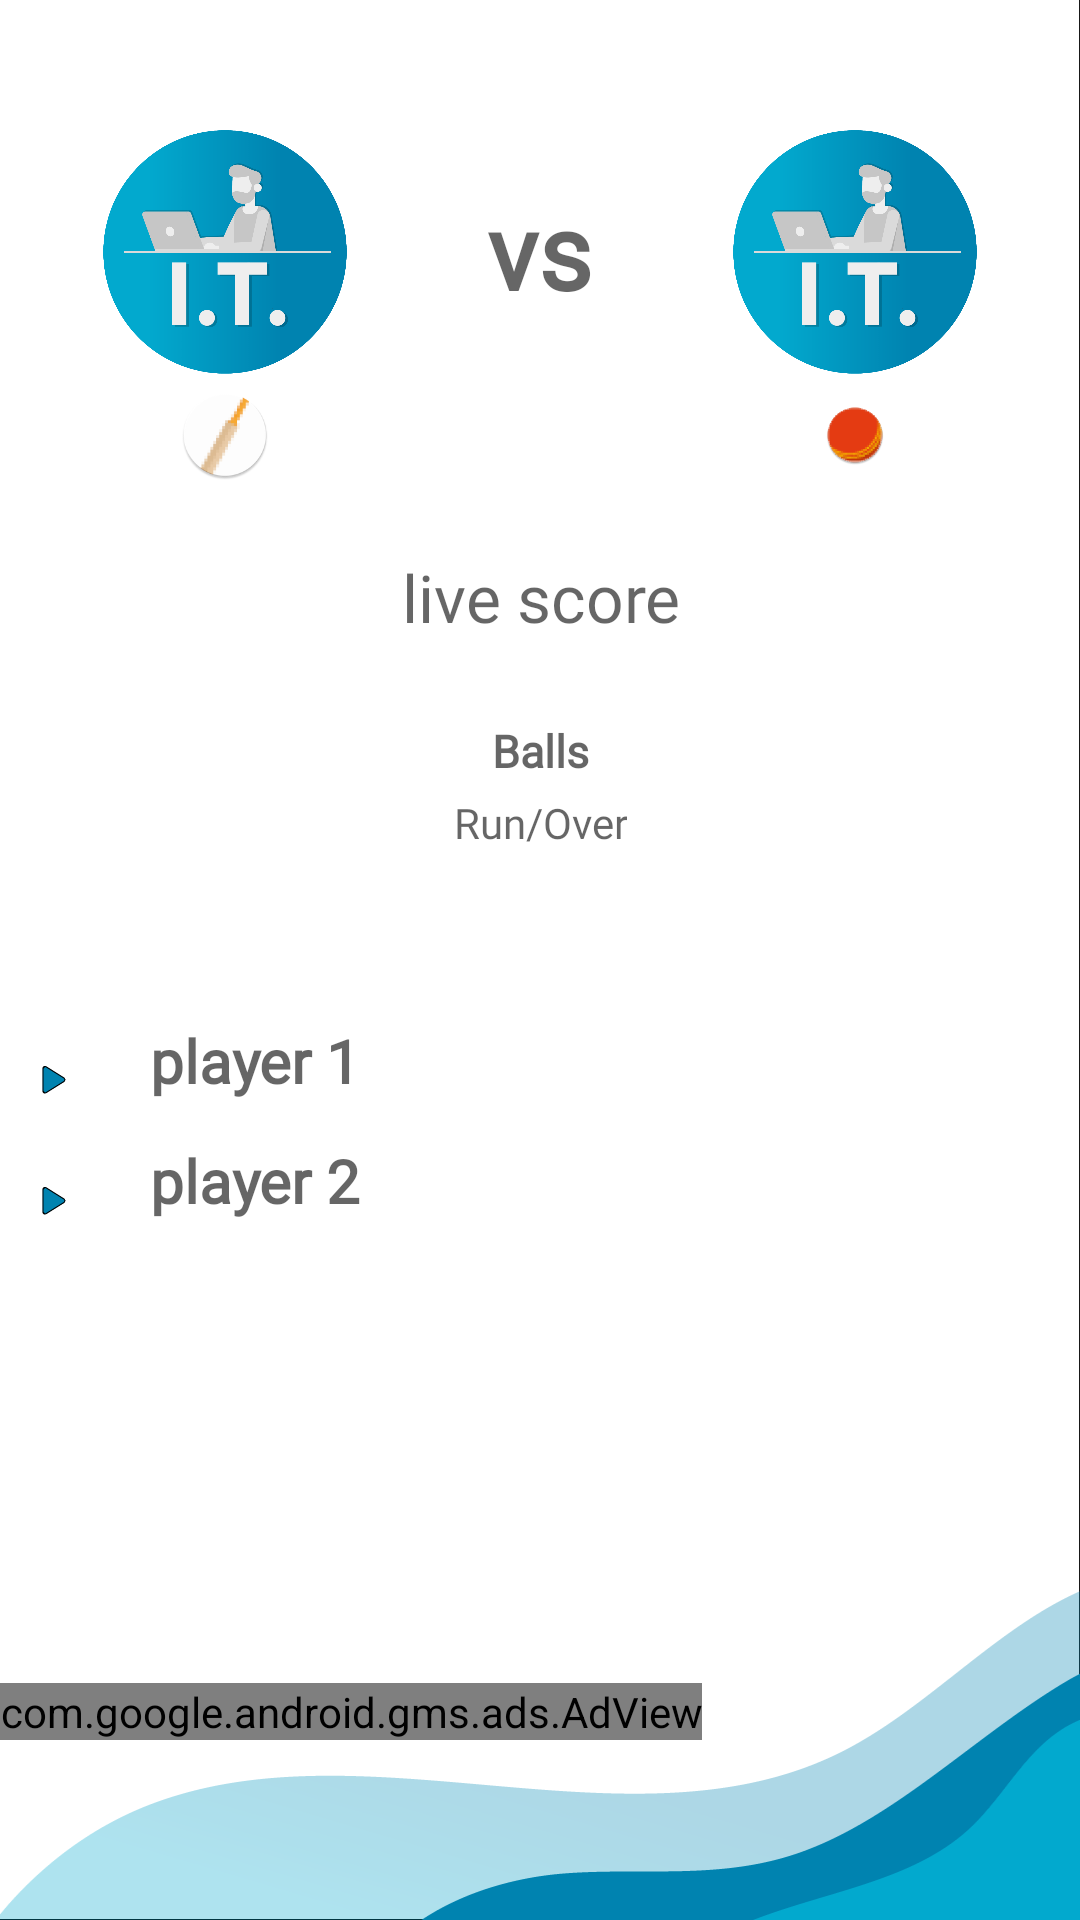

Named icons in this screenshot (1080w x 1920h) and their bounding boxes, {"left": x1, "top": y1, "right": x2, "bottom": y2}:
arrowbluestrike: {"left": 42, "top": 1066, "right": 66, "bottom": 1094}, {"left": 42, "top": 1187, "right": 66, "bottom": 1215}
ball: {"left": 827, "top": 407, "right": 883, "bottom": 464}
bat: {"left": 185, "top": 398, "right": 267, "bottom": 478}
